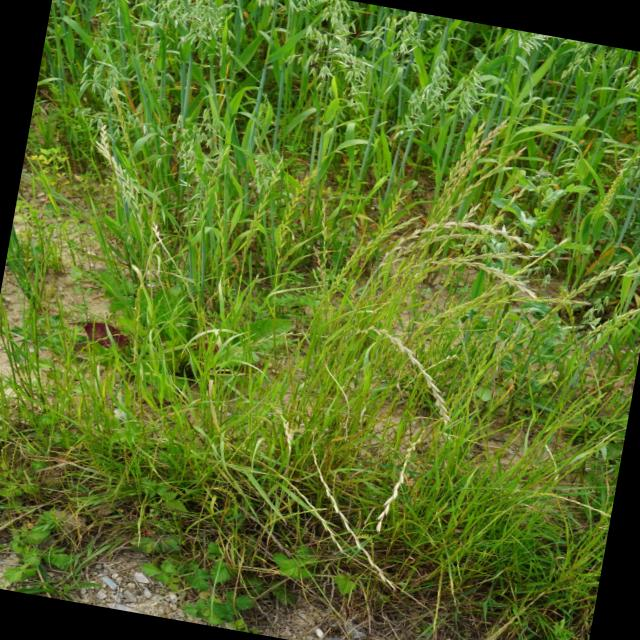Lolium: (0, 193, 640, 640), (303, 477, 412, 589), (343, 323, 462, 420), (323, 200, 422, 312), (387, 206, 538, 278), (388, 247, 543, 304), (437, 111, 509, 221), (270, 163, 320, 267), (85, 128, 146, 210), (244, 166, 282, 252), (248, 320, 331, 359), (198, 143, 232, 227), (368, 186, 404, 258)
